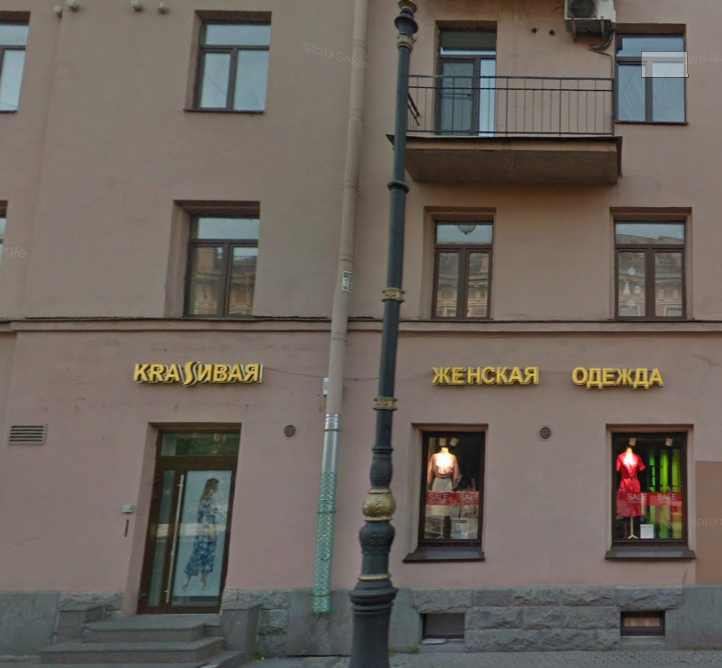door: (132, 426, 237, 613)
signboard: (132, 361, 258, 388), (432, 364, 540, 389), (572, 366, 664, 392)
window: (609, 428, 689, 547), (420, 428, 483, 548), (184, 213, 260, 312), (196, 15, 271, 110), (614, 217, 683, 317), (616, 27, 685, 127), (443, 20, 498, 132), (437, 216, 494, 317)
